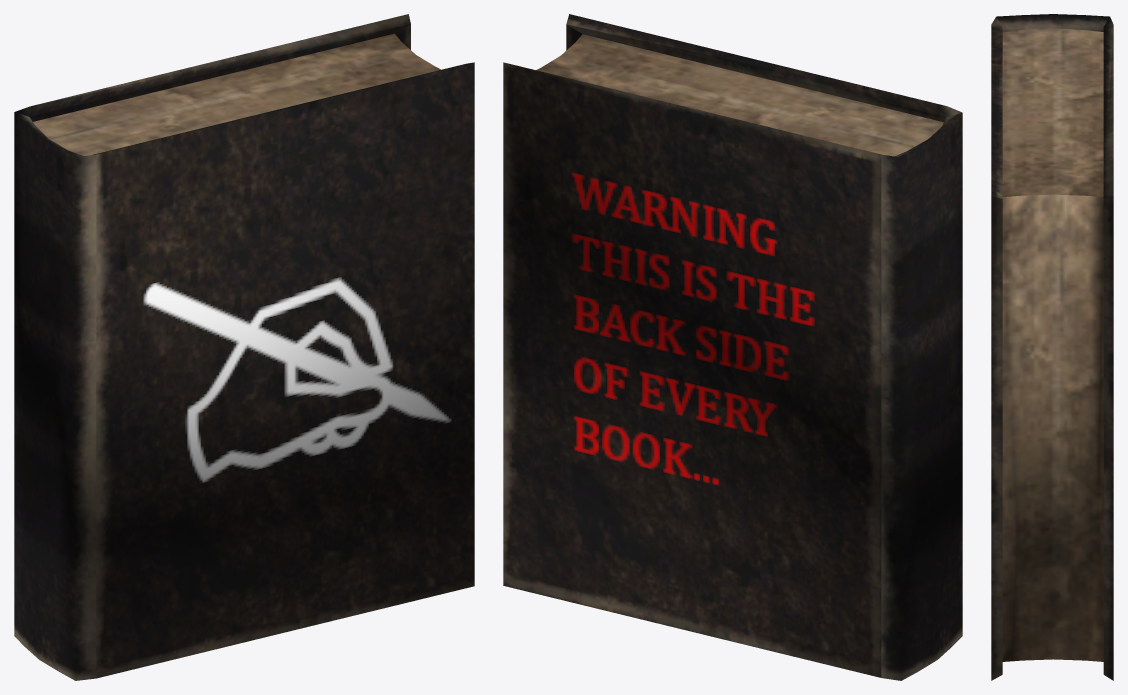
File: SOTR_Biblio_L.dae
3 views of the same model, side by side, from view 1: azimuth 30°, elevation 25°; view 2: azimuth 150°, elevation 25°; view 3: azimuth 270°, elevation 25° (orthographic). The views are drawn at different scales.
Parts seen in each view (by area): view 1: pCube1; view 2: pCube1; view 3: pCube1.
Part boxes in pixels (<box>): pCube1: <box>14,14,474,680</box>; pCube1: <box>503,14,962,680</box>; pCube1: <box>991,14,1113,680</box>.
Size of the model in its own units: 0.2811 by 0.08 by 0.35.
1 material, 1 textured.
